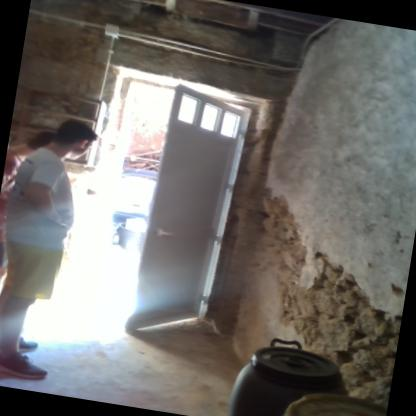semi: (66, 57, 262, 350)
